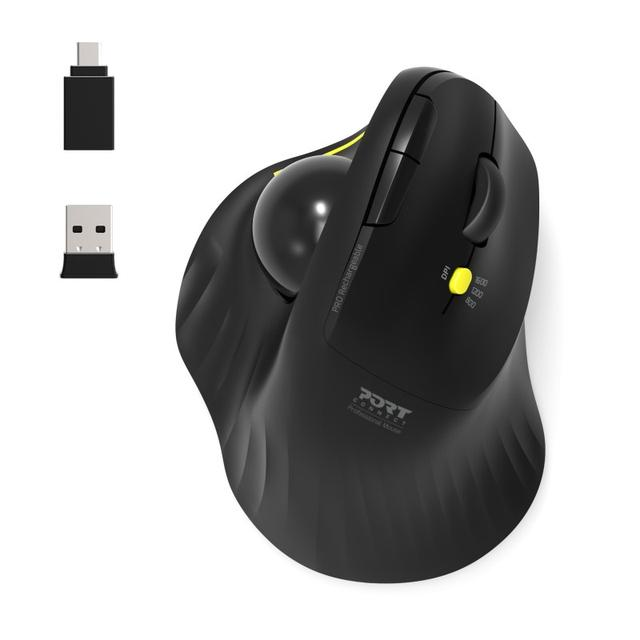mouse: (141, 40, 589, 626)
